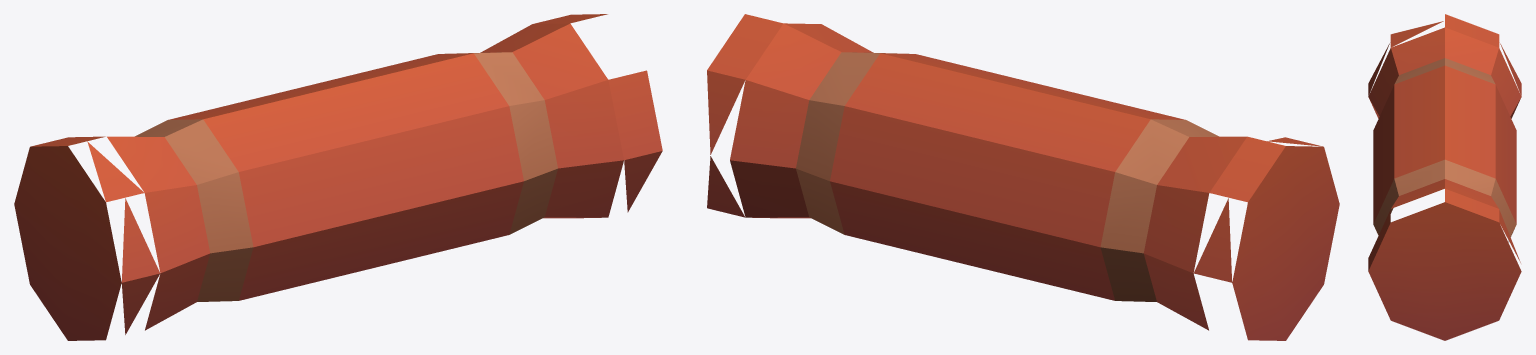
The model's file is bedroll.lod.glb.
3 views of the same model, side by side, from view 1: azimuth 30°, elevation 25°; view 2: azimuth 150°, elevation 25°; view 3: azimuth 270°, elevation 25° (orthographic). The views are drawn at different scales.
Parts seen in each view (by area): view 1: m; view 2: m; view 3: m.
Boxes of the visible parts, left/top/right/bottom form: m: left=14, top=14, right=662, bottom=340; m: left=707, top=14, right=1339, bottom=340; m: left=1368, top=14, right=1521, bottom=340.
Size of the model in its own units: 0.2 by 0.0689 by 0.0689.
